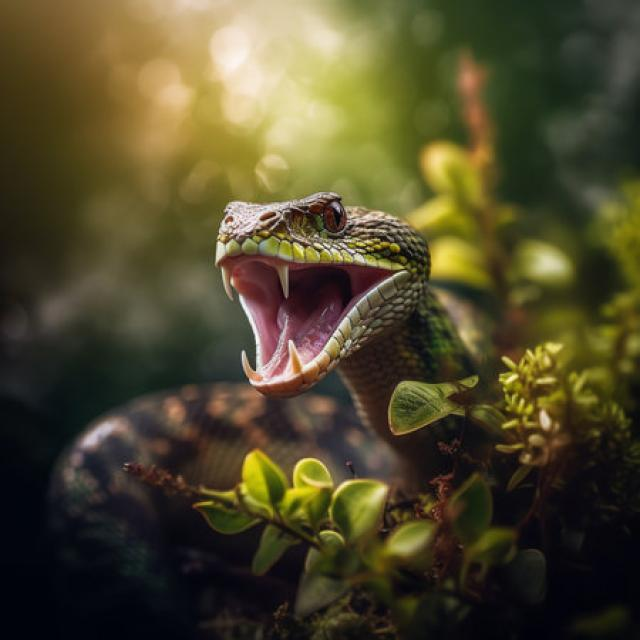Carnivorous: (44, 193, 475, 640)
